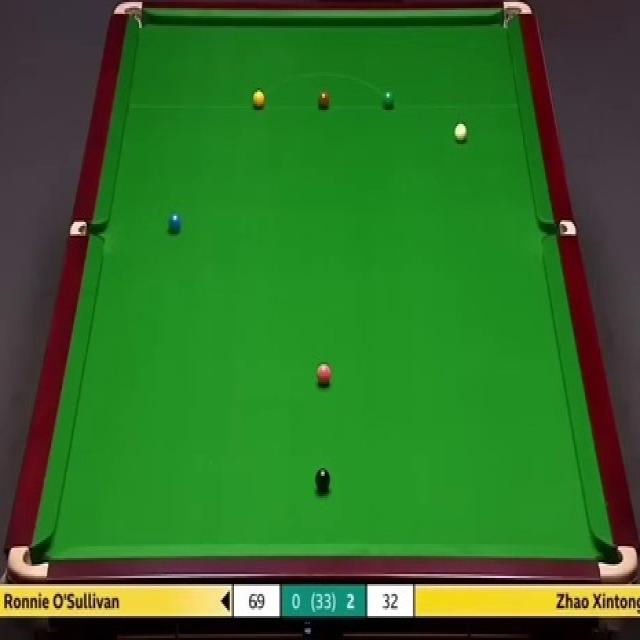black-ball: (315, 467, 331, 493)
blue-ball: (167, 213, 183, 237)
brown-ball: (317, 92, 330, 109)
green-ball: (382, 88, 396, 112)
pink-ball: (316, 362, 332, 389)
white-ball: (452, 122, 468, 145)
yellow-ball: (252, 89, 266, 110)
